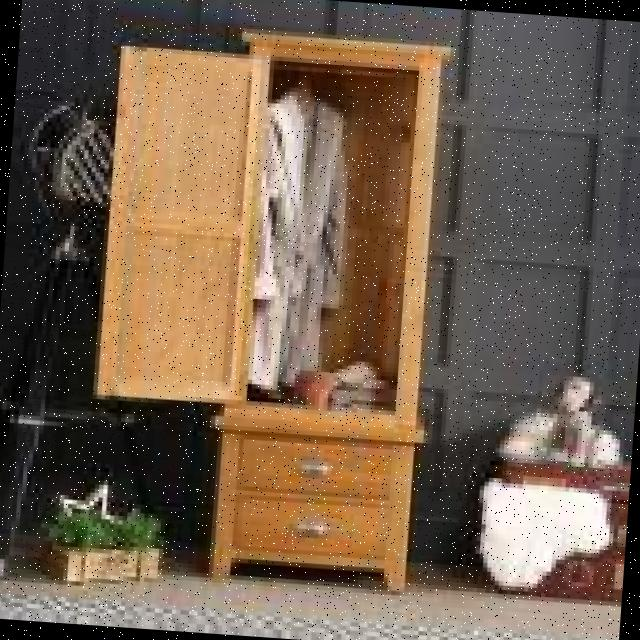Closet: (74, 11, 460, 605)
